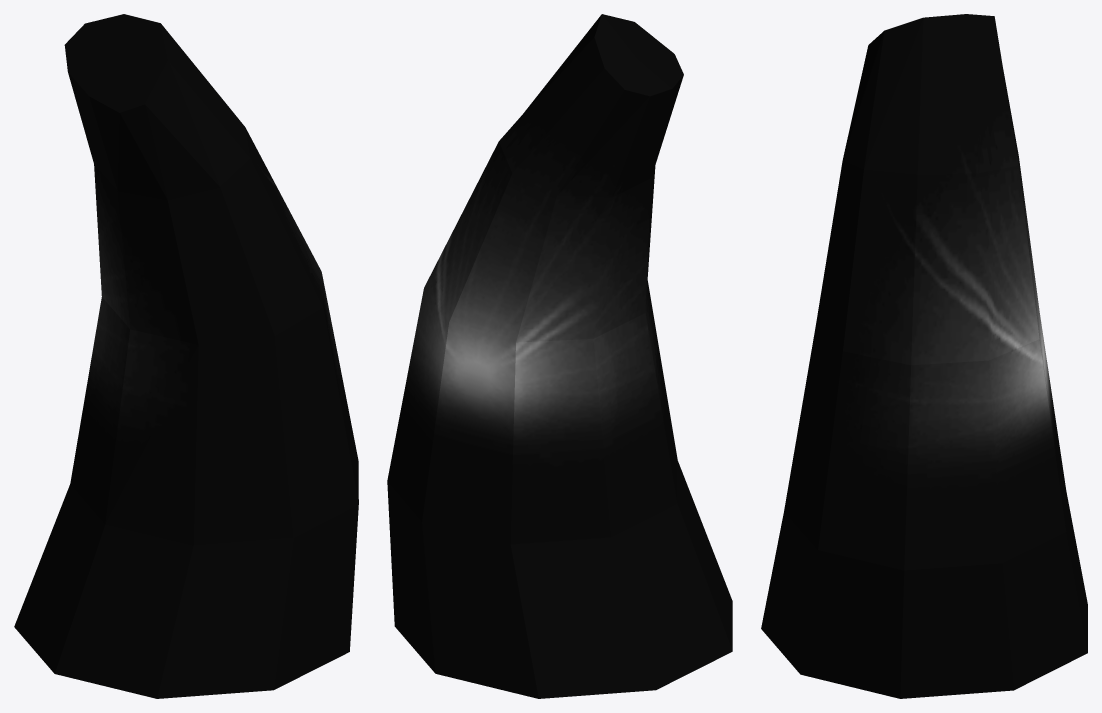
The model's file is 0417_shici_ganggui_yuanhua.glb.
3 renders of one model, left to right at view 1: azimuth 30°, elevation 25°; view 2: azimuth 150°, elevation 25°; view 3: azimuth 270°, elevation 25°, orthographic. The views are drawn at different scales.
Size of the model in its own units: 1.15 by 2.2 by 1.09.
1 material, 1 textured.
